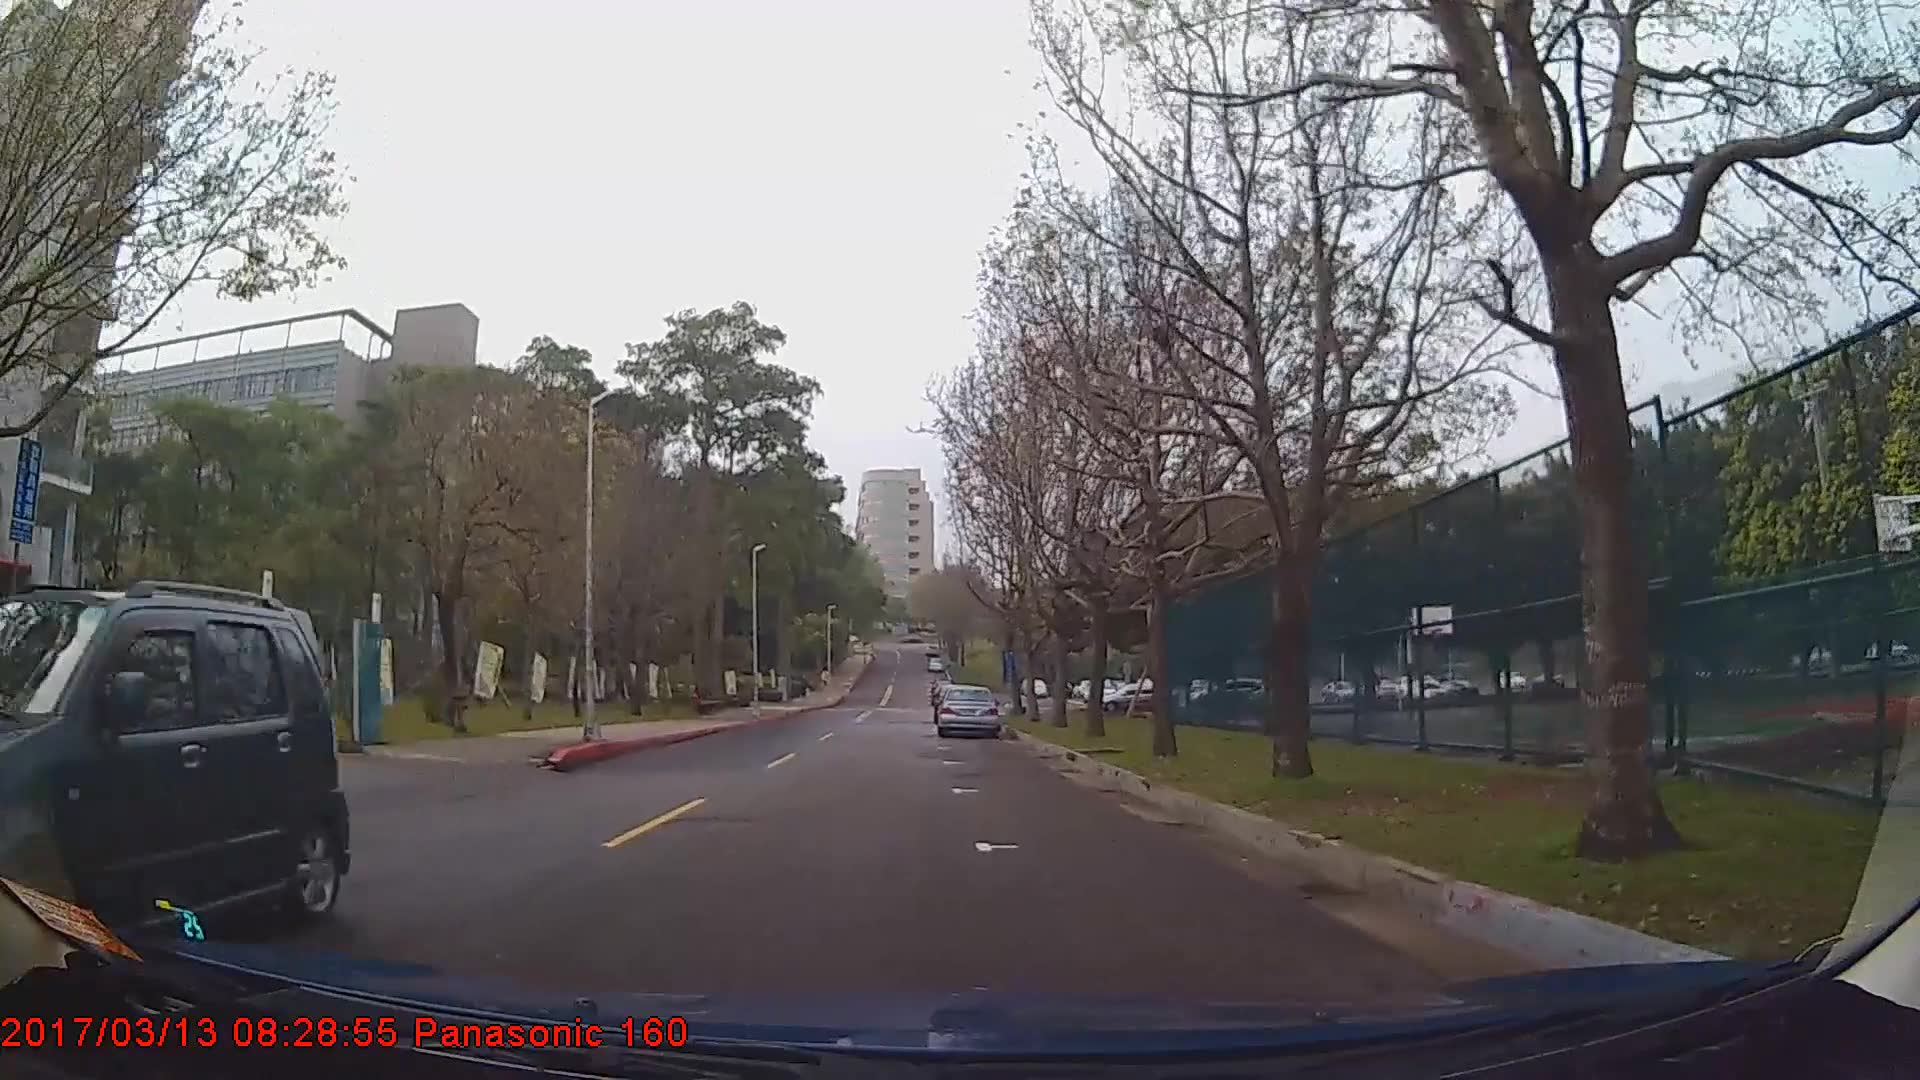vehicle: (0, 584, 343, 969), (934, 684, 1000, 740)
